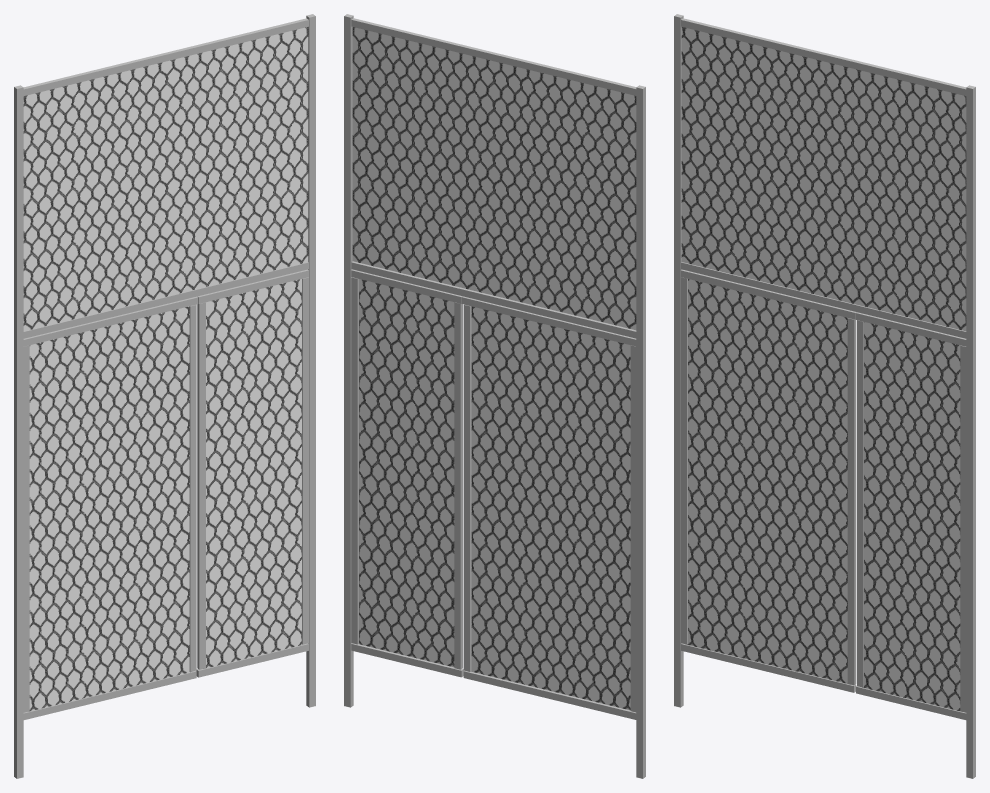
The model's file is mallbil_sidefence01a.fbx.
3 renders of one model, left to right at view 1: azimuth 30°, elevation 25°; view 2: azimuth 150°, elevation 25°; view 3: azimuth 330°, elevation 25°, orthographic.
Visible parts, largest first — view 1: mallbil_sidefence01a; view 2: mallbil_sidefence01a; view 3: mallbil_sidefence01a.
Part boxes in pixels (<box>): mallbil_sidefence01a: <box>14,14,315,778</box>; mallbil_sidefence01a: <box>344,14,645,778</box>; mallbil_sidefence01a: <box>674,14,975,778</box>.
Bounding box in the file's own units: 154 × 341 × 2.61.
